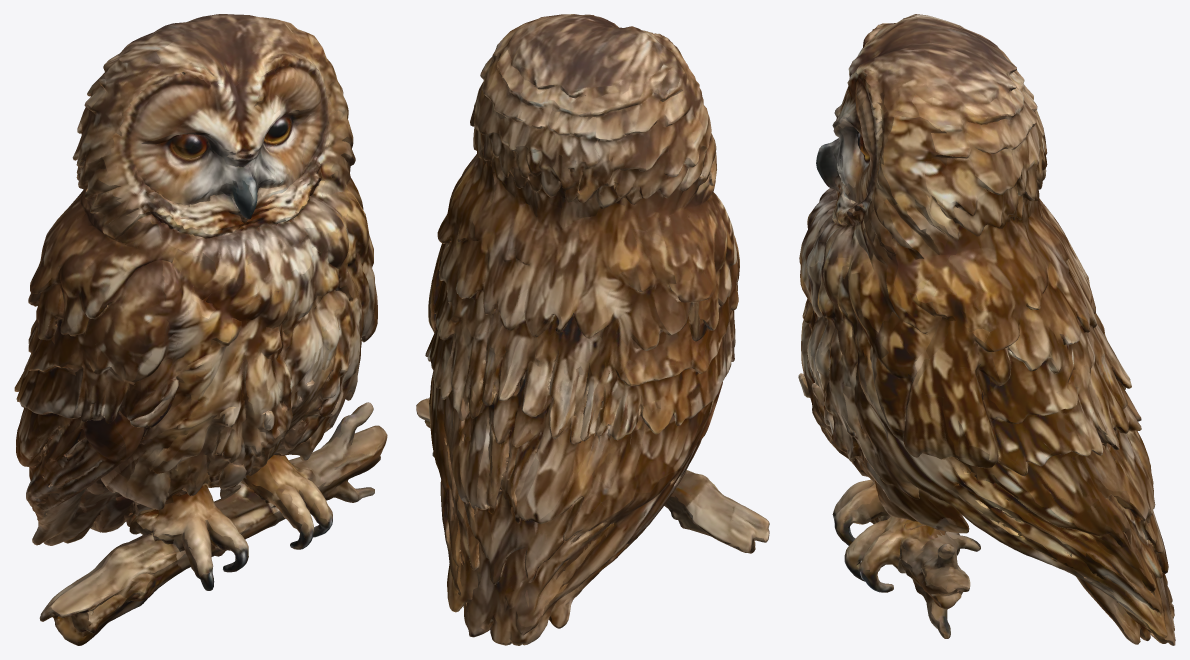
The model's file is owl.glb.
3 views of the same model, side by side, from view 1: azimuth 30°, elevation 25°; view 2: azimuth 150°, elevation 25°; view 3: azimuth 270°, elevation 25° (orthographic). The views are drawn at different scales.
Visible parts, largest first — view 1: geometry_0; view 2: geometry_0; view 3: geometry_0.
Part boxes in pixels (x1,y1,x2,y2): geometry_0: (14,14,387,645); geometry_0: (416,14,769,645); geometry_0: (798,14,1175,645).
Bounding box in the file's own units: 0.1807 × 0.28 × 0.1593.
Materials: 1 (1 with a texture image).
